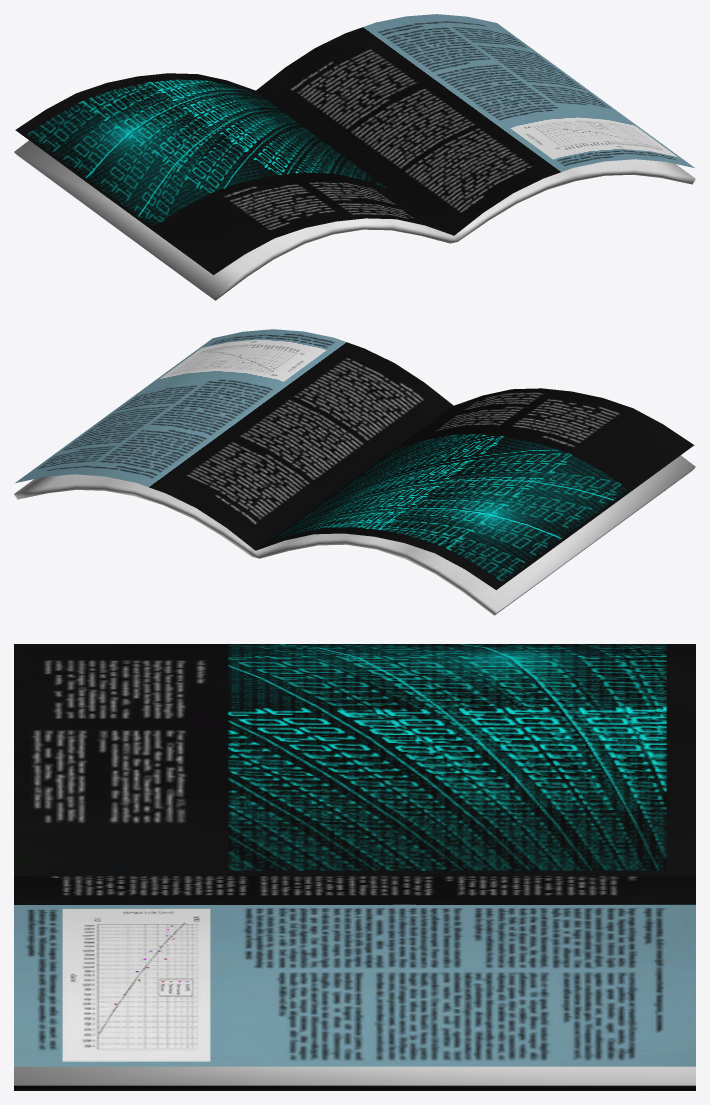
The model's file is magazine_ai_open.dae.
3 renders of one model, top to bottom at view 1: azimuth 30°, elevation 25°; view 2: azimuth 150°, elevation 25°; view 3: azimuth 270°, elevation 25°, orthographic. The views are drawn at different scales.
Parts seen in each view (by area): view 1: magazine_tech_open; view 2: magazine_tech_open; view 3: magazine_tech_open.
Part boxes in pixels (x1=…): magazine_tech_open: x1=14, y1=14, x2=695, y2=300; magazine_tech_open: x1=14, y1=329, x2=695, y2=615; magazine_tech_open: x1=14, y1=644, x2=695, y2=1090.
Bounding box in the file's own units: 39.45 × 3.98 × 28.
